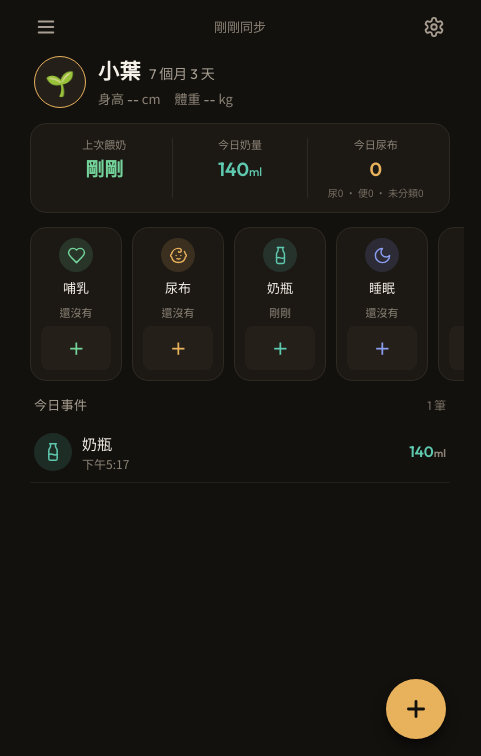
Scenario: a write that lands while the pull afterwards does not › keeps an edit on screen
The image size is (481, 756).
Expected: the text "上次餵奶" is shown, [82, 136, 126, 152]
Step 1. Click the link with aria-label "開啟 奶瓶 的紀錄" → (53, 452), box [30, 422, 450, 483]
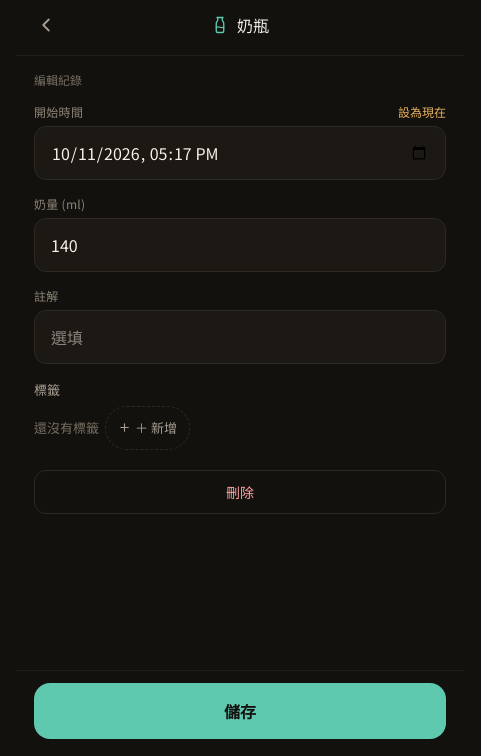
Step 2. Replace the text in the field named "奶量" with "160" → (240, 245), box [34, 218, 446, 272]
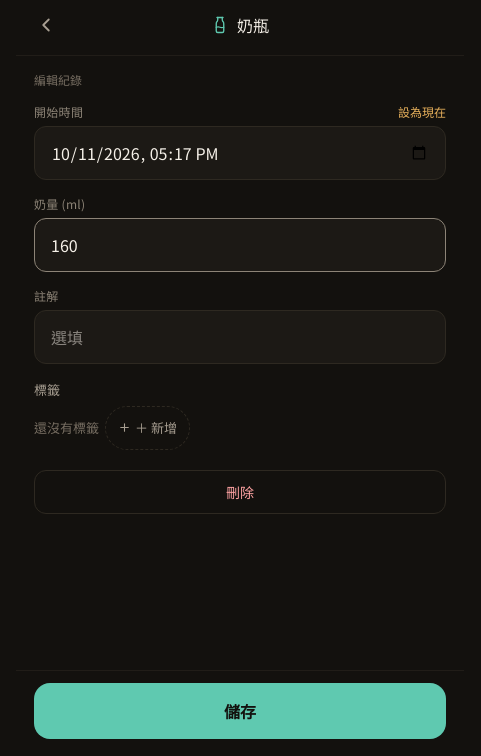
Step 3. Click the button with test id "submit" → (240, 711), box [34, 683, 446, 739]
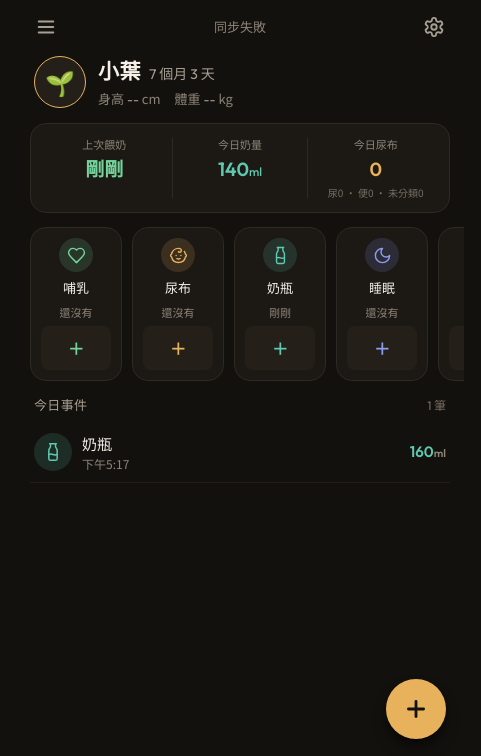
Now the text "上次餵奶" is shown, box [82, 136, 126, 152]
Now the link with test id "event-row-bottle" shows "160", box [30, 422, 450, 483]
